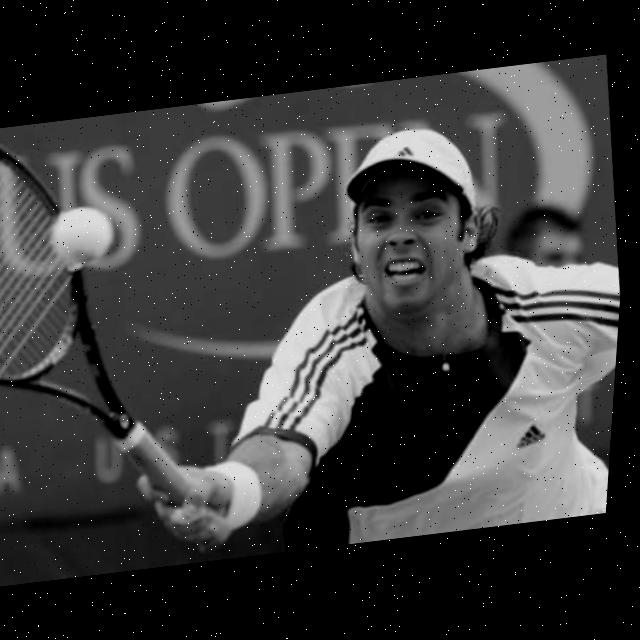face: (325, 130, 497, 324)
